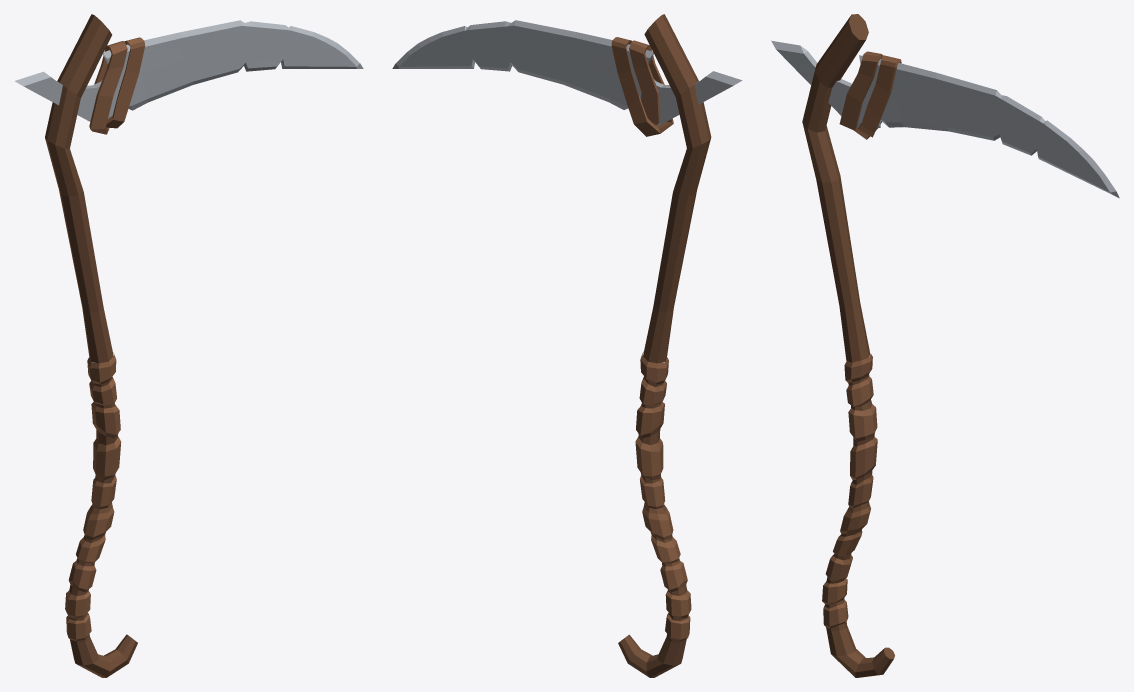
The model's file is scythe.glb.
3 views of the same model, side by side, from view 1: azimuth 30°, elevation 25°; view 2: azimuth 150°, elevation 25°; view 3: azimuth 330°, elevation 25° (orthographic).
Parts seen in each view (by area): view 1: scythe; view 2: scythe; view 3: scythe.
Boxes of the visible parts, x1,y1,x2,y2 form: scythe: (15, 14, 363, 677); scythe: (392, 14, 742, 677); scythe: (771, 14, 1119, 677).
Size of the model in its own units: 0.9936 by 1.8 by 0.0893.
